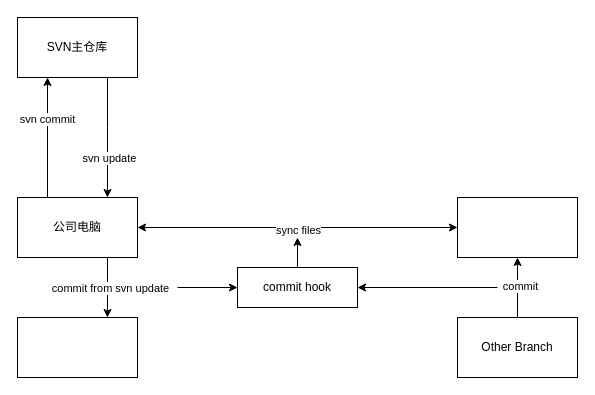
Some shapes in this 595 by 395 pixel diagram are drawn without their labels. The shapes that lost their labels are listed below. From the top down, each one's centre as x and y in pixels, then its label:
[517,227]: Mac(master)
[77,347]: Git Respository
